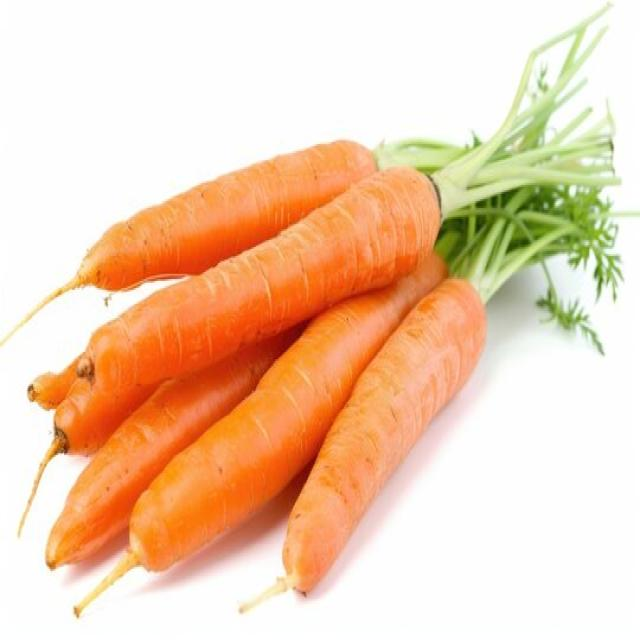Carrot: (68, 247, 450, 617), (236, 274, 487, 613), (0, 135, 380, 348), (43, 320, 301, 572)
